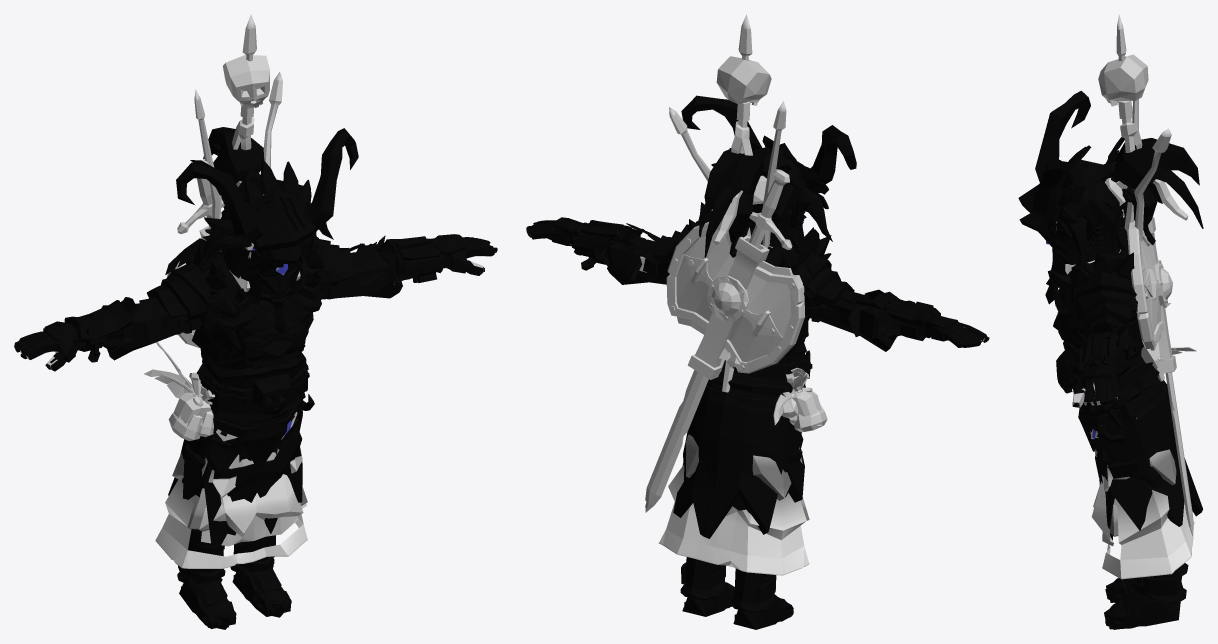
The model's file is Characters.fbx.
3 renders of one model, left to right at view 1: azimuth 30°, elevation 25°; view 2: azimuth 150°, elevation 25°; view 3: azimuth 270°, elevation 25°, orthographic.
Visible parts, largest first — view 1: node_id105, node_id79, node_id85, node_id95, node_id101, node_id49, node_id17, node_id77, node_id87, node_id103, node_id91, node_id107 (+7 smaller); view 2: node_id105, node_id53, node_id85, node_id79, node_id101, node_id95, node_id51, node_id49, node_id77, node_id17, node_id91, node_id87 (+5 smaller); view 3: node_id105, node_id79, node_id85, node_id101, node_id49, node_id95, node_id53, node_id77, node_id51, node_id81, node_id17, node_id87 (+8 smaller).
Boxes of the visible parts, x1,y1,x2,y2 form: node_id105: [18, 128, 495, 628]; node_id79: [14, 127, 497, 627]; node_id85: [155, 251, 307, 568]; node_id95: [15, 244, 402, 545]; node_id101: [18, 144, 494, 629]; node_id49: [194, 14, 282, 251]; node_id17: [197, 159, 333, 270]; node_id77: [44, 160, 445, 613]; node_id87: [91, 186, 465, 611]; node_id103: [15, 247, 436, 580]; node_id91: [172, 168, 419, 610]; node_id107: [58, 246, 303, 627]; node_id105: [529, 95, 983, 625]; node_id53: [666, 222, 805, 373]; node_id85: [658, 246, 809, 575]; node_id79: [526, 143, 989, 621]; node_id101: [530, 174, 986, 628]; node_id95: [606, 237, 989, 538]; node_id51: [645, 169, 792, 512]; node_id49: [669, 14, 786, 392]; node_id77: [571, 164, 956, 629]; node_id17: [704, 135, 832, 241]; node_id91: [621, 165, 931, 624]; node_id87: [554, 187, 831, 622]; node_id105: [1032, 90, 1186, 629]; node_id79: [1018, 138, 1199, 629]; node_id85: [1065, 228, 1194, 579]; node_id101: [1046, 170, 1203, 628]; node_id49: [1098, 14, 1171, 381]; node_id95: [1019, 213, 1202, 540]; node_id53: [1127, 220, 1172, 350]; node_id77: [1057, 137, 1188, 627]; node_id51: [1148, 217, 1193, 536]; node_id81: [1056, 179, 1122, 368]; node_id17: [1056, 145, 1091, 270]; node_id87: [1052, 206, 1167, 625].
Size of the model in its own units: 0.4228 by 0.5203 by 0.1455.
28 materials, 20 textured.
